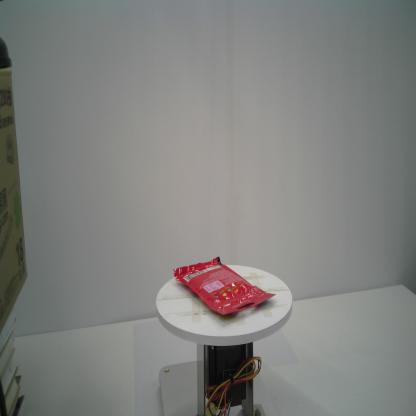Candy: (173, 256, 277, 315)
